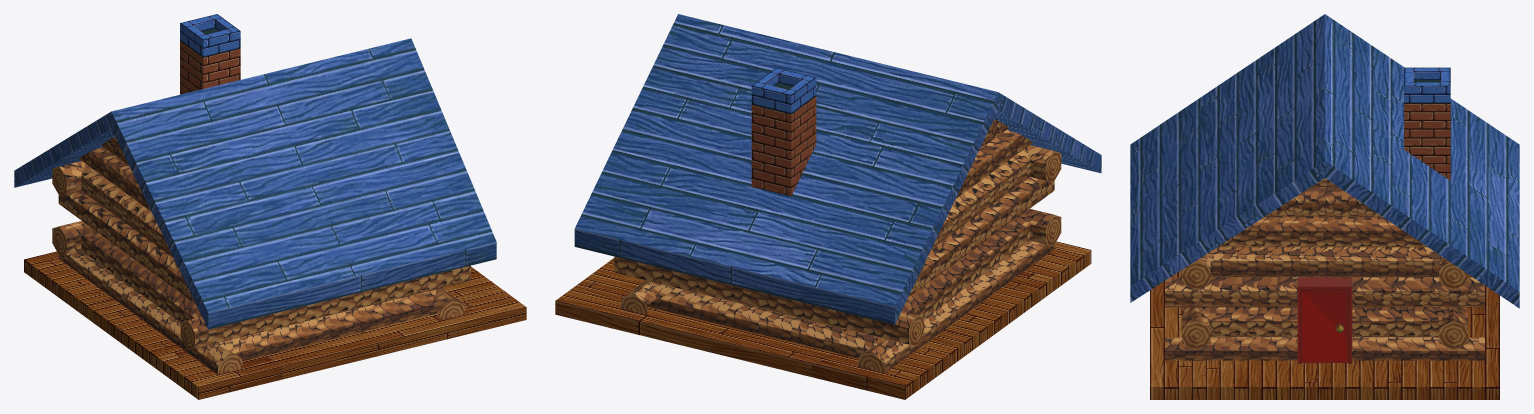
The model's file is plaza_house_blue.glb.
The picture shows the model from 3 angles, left to right: view 1: azimuth 30°, elevation 25°; view 2: azimuth 150°, elevation 25°; view 3: azimuth 270°, elevation 25°; orthographic projection. The views are drawn at different scales.
Visible parts, largest first — view 1: BlueHouse; view 2: BlueHouse; view 3: BlueHouse.
Part boxes in pixels (box(x1,y1,x2,y2)): BlueHouse: box(14, 14, 526, 399); BlueHouse: box(555, 14, 1101, 399); BlueHouse: box(1130, 14, 1519, 399).
Bounding box in the file's own units: 13.9 × 9.52 × 14.23.
7 materials, 7 textured.
